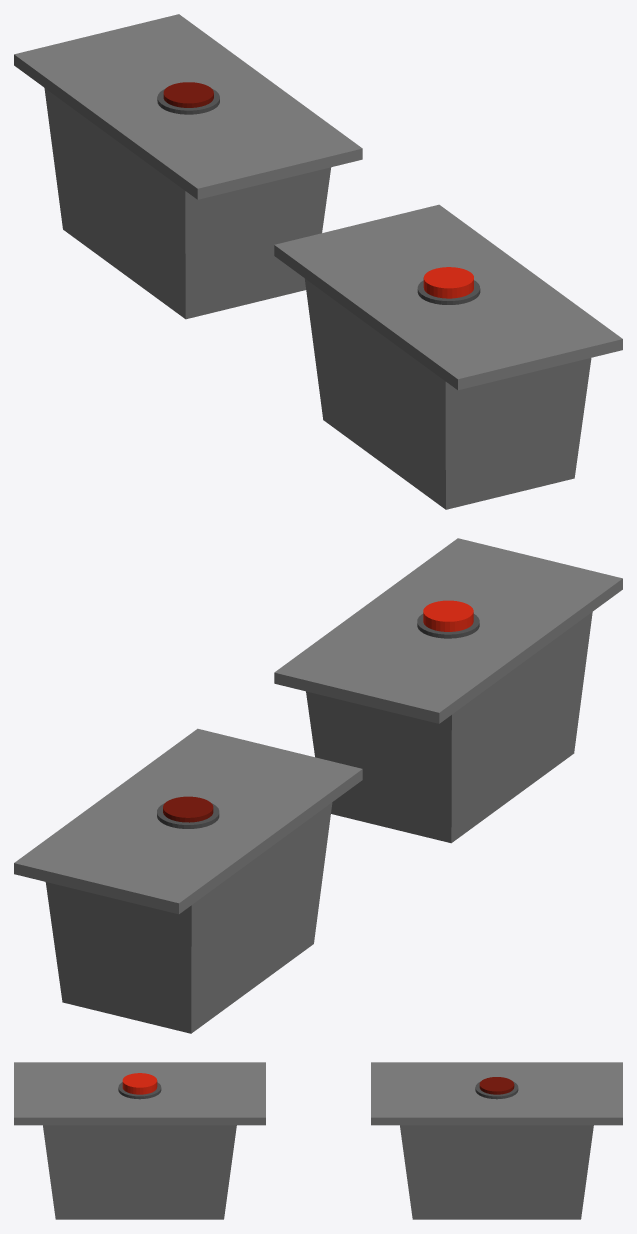
The model's file is button.glb.
3 views of the same model, one above another, from view 1: azimuth 30°, elevation 25°; view 2: azimuth 150°, elevation 25°; view 3: azimuth 270°, elevation 25° (orthographic). The views are drawn at different scales.
Parts seen in each view (by area): view 1: Cube, Cube.004, Cube.001, Cube.005, Cylinder, Cylinder.005; view 2: Cube.005, Cube.004, Cube.001, Cube, Cylinder, Cylinder.005; view 3: Cube.005, Cube, Cube.004, Cube.001, Cylinder, Cylinder.005, Cylinder.004, Cylinder.001.
Boxes of the visible parts, x1,y1,x2,y2 form: Cube: (304,278,591,509); Cube.004: (14,14,362,199); Cube.001: (274,204,622,390); Cube.005: (44,88,331,319); Cylinder: (423,267,473,298); Cylinder.005: (163,82,213,107); Cube.005: (45,802,332,1033); Cube.004: (14,728,362,914); Cube.001: (274,538,622,723); Cube: (306,612,592,843); Cylinder: (423,600,473,631); Cylinder.005: (163,796,213,822); Cube.005: (400,1125,593,1219); Cube: (43,1125,236,1219); Cube.004: (371,1062,622,1125); Cube.001: (14,1062,265,1125); Cylinder: (122,1073,157,1094); Cylinder.005: (479,1077,514,1094); Cylinder.004: (475,1081,518,1099); Cylinder.001: (118,1082,161,1099).
Size of the model in its own units: 2.57 by 2.55 by 11.95.
